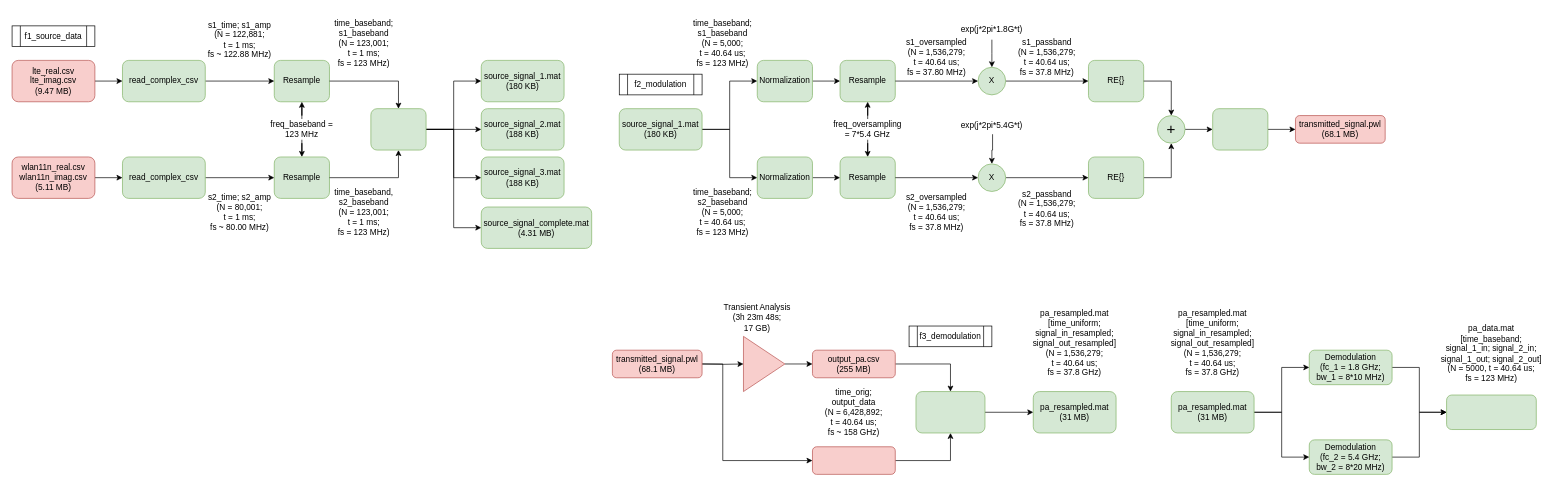
Image size: 1555x486. Some labels were removed from this diagram. The centre of each missing label's shape, as x and y in pixels:
"input_pa.csv (265 MB)" belongs at [853,460].
"Normalization (gain - 0.02)" belongs at [1240,129].
"PA" belongs at [764,364].
"pa_data.mat (344 KB)" belongs at [1491,412].
"Resample (fs = 37.8 GHz)" belongs at [950,412].
"Split & Save" belongs at [398,129].
